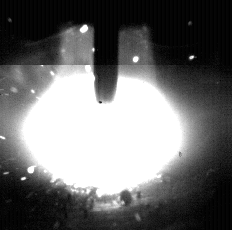arame: (95, 0, 119, 103)
poca: (21, 0, 182, 230)
